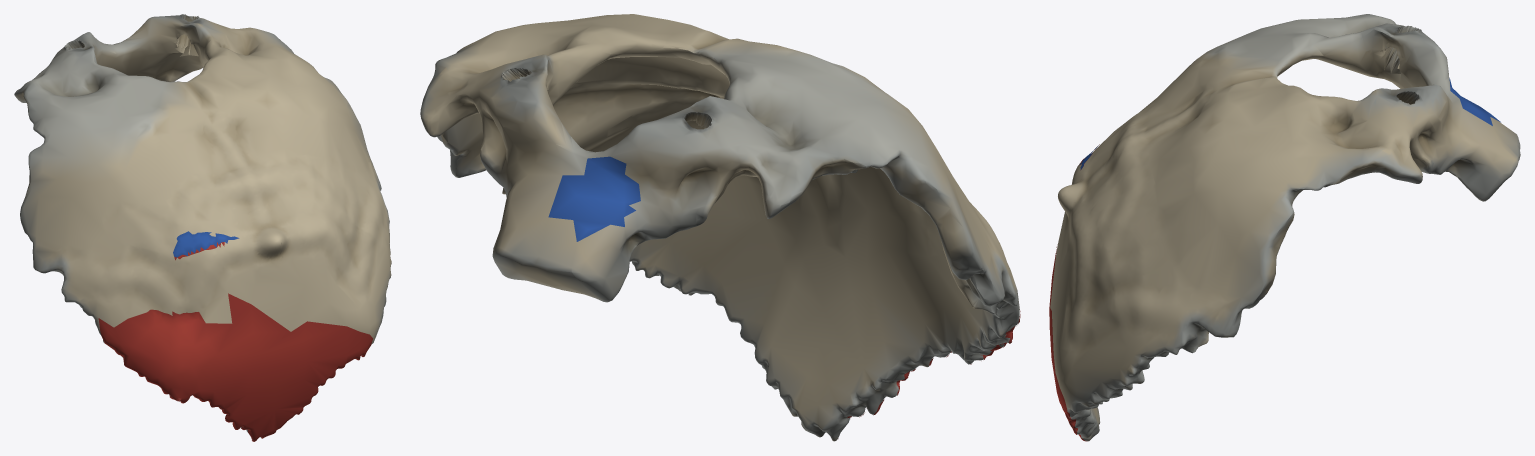
The model's file is cranium-occipitale.glb.
3 views of the same model, side by side, from view 1: azimuth 30°, elevation 25°; view 2: azimuth 150°, elevation 25°; view 3: azimuth 270°, elevation 25° (orthographic). The views are drawn at different scales.
Parts seen in each view (by area): view 1: FJ3309, origo__squama-lambda__m-occipitofrontalis, cranium-occipitale__condyli-foramen-magnum, cranium-occipitale__protuberantia-lineae-nuchae, insertio__protuberantia-lineae-nuchae__FJ1538; view 2: FJ3309, cranium-occipitale__condyli-foramen-magnum, insertio__condyli-foramen-magnum__FJ1582; view 3: FJ3309, cranium-occipitale__condyli-foramen-magnum, cranium-occipitale__protuberantia-lineae-nuchae, origo__squama-lambda__m-occipitofrontalis, insertio__condyli-foramen-magnum__FJ1582.
Part boxes in pixels (box(x1,y1,x2,y2)): FJ3309: box(14, 14, 391, 437); origo__squama-lambda__m-occipitofrontalis: box(98, 293, 372, 441); cranium-occipitale__condyli-foramen-magnum: box(15, 32, 185, 171); cranium-occipitale__protuberantia-lineae-nuchae: box(175, 191, 345, 294); insertio__protuberantia-lineae-nuchae__FJ1538: box(173, 231, 239, 257); FJ3309: box(420, 14, 1019, 441); cranium-occipitale__condyli-foramen-magnum: box(536, 42, 942, 228); insertio__condyli-foramen-magnum__FJ1582: box(548, 156, 640, 241); FJ3309: box(1051, 32, 1520, 441); cranium-occipitale__condyli-foramen-magnum: box(1203, 14, 1462, 120); cranium-occipitale__protuberantia-lineae-nuchae: box(1058, 146, 1120, 287); origo__squama-lambda__m-occipitofrontalis: box(1049, 247, 1086, 441); insertio__condyli-foramen-magnum__FJ1582: box(1449, 78, 1500, 125).
Size of the model in its own units: 123 by 107 by 119.
